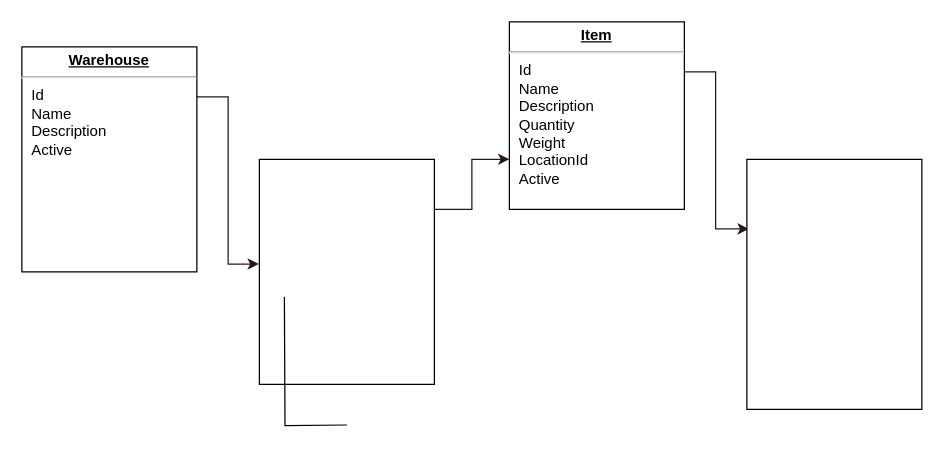
Some shapes in this 944 by 449 pixel diagram are drawn without their labels. The shapes that lost their labels are listed below. From the top down, each one's centre as x and y in pixels, then its label:
[346,271]: Location Id Name Description WarehouseId Active
[834,283]: StockTransaction Id ItemId PreviousQuantity NewQuantity TransactionDateTime
